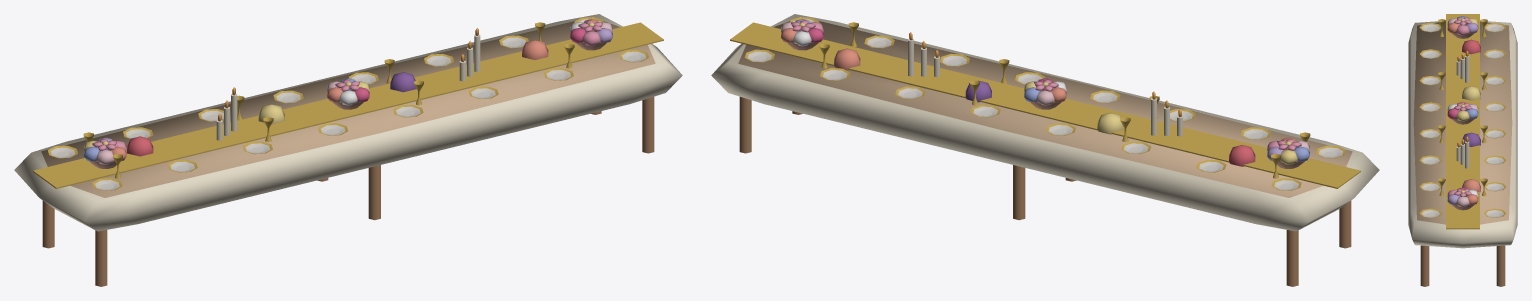
File: solstice_long_table.gltf
The picture shows the model from 3 angles, left to right: view 1: azimuth 30°, elevation 25°; view 2: azimuth 150°, elevation 25°; view 3: azimuth 270°, elevation 25°; orthographic projection. The views are drawn at different scales.
Parts seen in each view (by area): view 1: solstice_long_table; view 2: solstice_long_table; view 3: solstice_long_table.
Part boxes in pixels (x1=…): solstice_long_table: x1=14, y1=14, x2=682, y2=286; solstice_long_table: x1=711, y1=14, x2=1379, y2=286; solstice_long_table: x1=1408, y1=14, x2=1517, y2=286.
Size of what is drawn, in the model's own units: 6.1 by 1.28 by 1.29.
